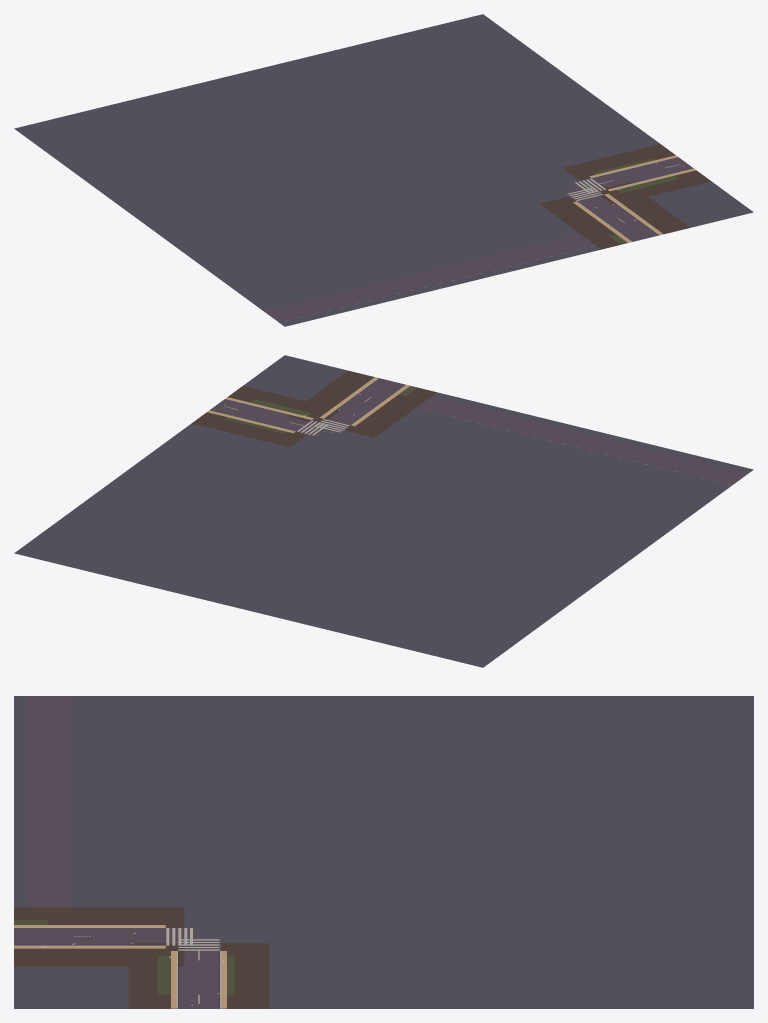
File: cure-30-1.glb
The picture shows the model from 3 angles, top to bottom: view 1: azimuth 30°, elevation 25°; view 2: azimuth 150°, elevation 25°; view 3: azimuth 270°, elevation 25°; orthographic projection. The views are drawn at different scales.
Visible parts, largest first — view 1: cure-30-1; view 2: cure-30-1; view 3: cure-30-1.
Part boxes in pixels (bbox=[...]): cure-30-1: bbox=[14, 14, 753, 326]; cure-30-1: bbox=[14, 355, 753, 667]; cure-30-1: bbox=[14, 696, 753, 1008].
Size of the model in its own units: 100 by 0.016 by 100.
